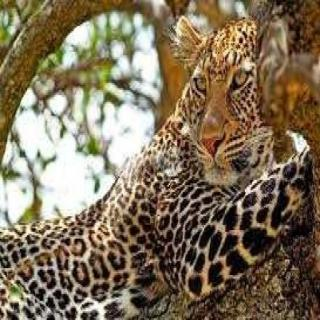Leopard: (8, 3, 320, 320)
